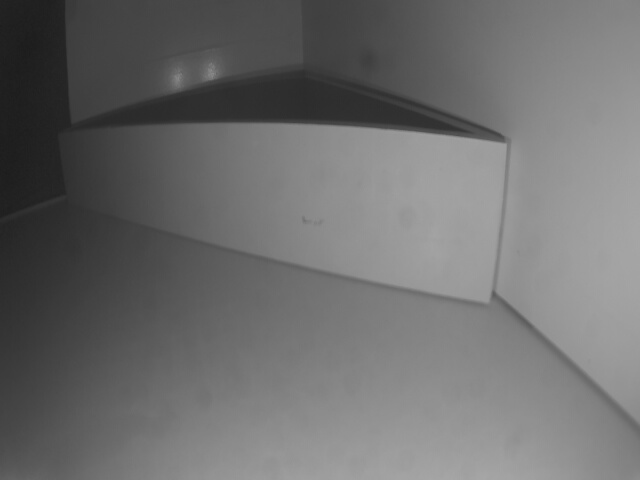Red: (58, 131, 504, 304)
